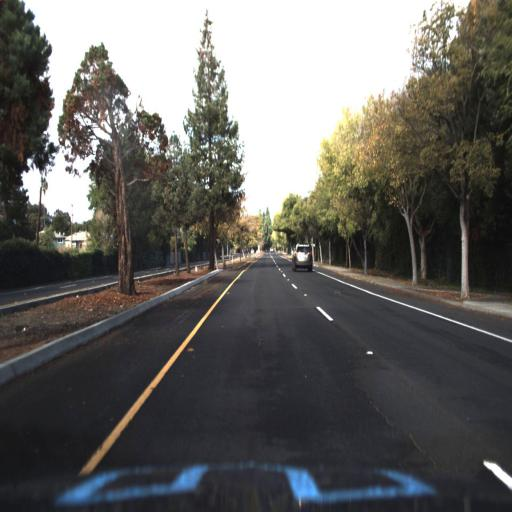car: (292, 242, 314, 274)
